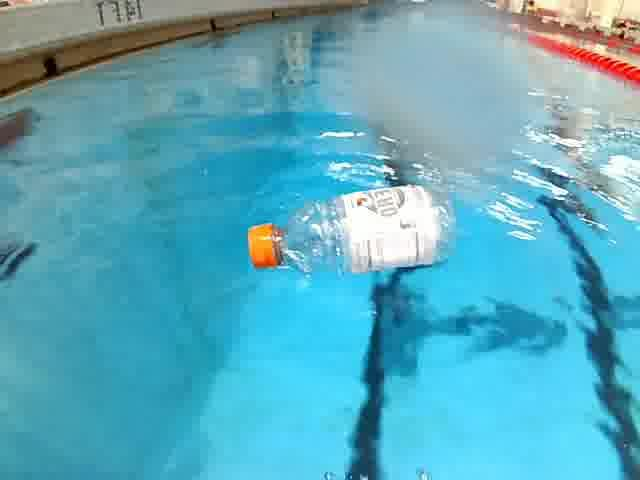Bottle: (233, 172, 475, 296)
